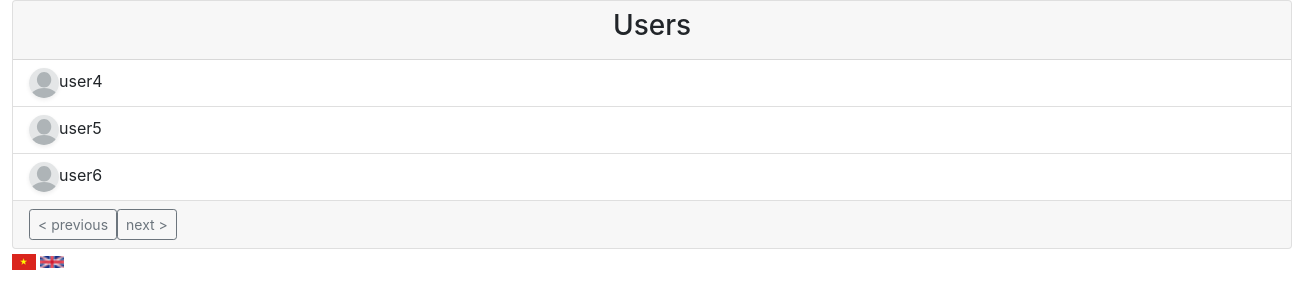
Test: User List › Internalization › display header and navigation links in Vietnamese after selecting the language
Check: the list item "user4" is shown, box top-left (13, 60), bottom-right (1291, 107)
Step 1. Click the picture titled "Tiếng Việt" → (24, 262), box top-left (12, 254), bottom-right (36, 270)
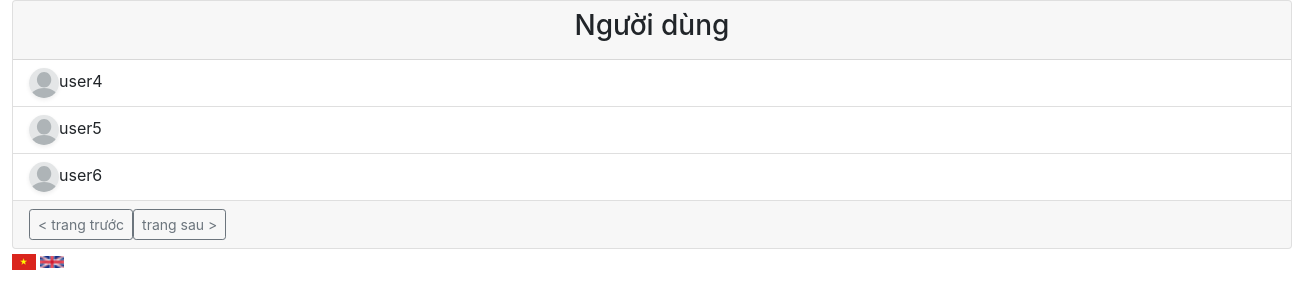
Check: the heading "Người dùng" is shown, box top-left (575, 8), bottom-right (729, 42)
Check: the button "trang sau >" is shown, box top-left (133, 209), bottom-right (226, 240)
Check: the button "< trang trước" is shown, box top-left (29, 209), bottom-right (133, 240)
